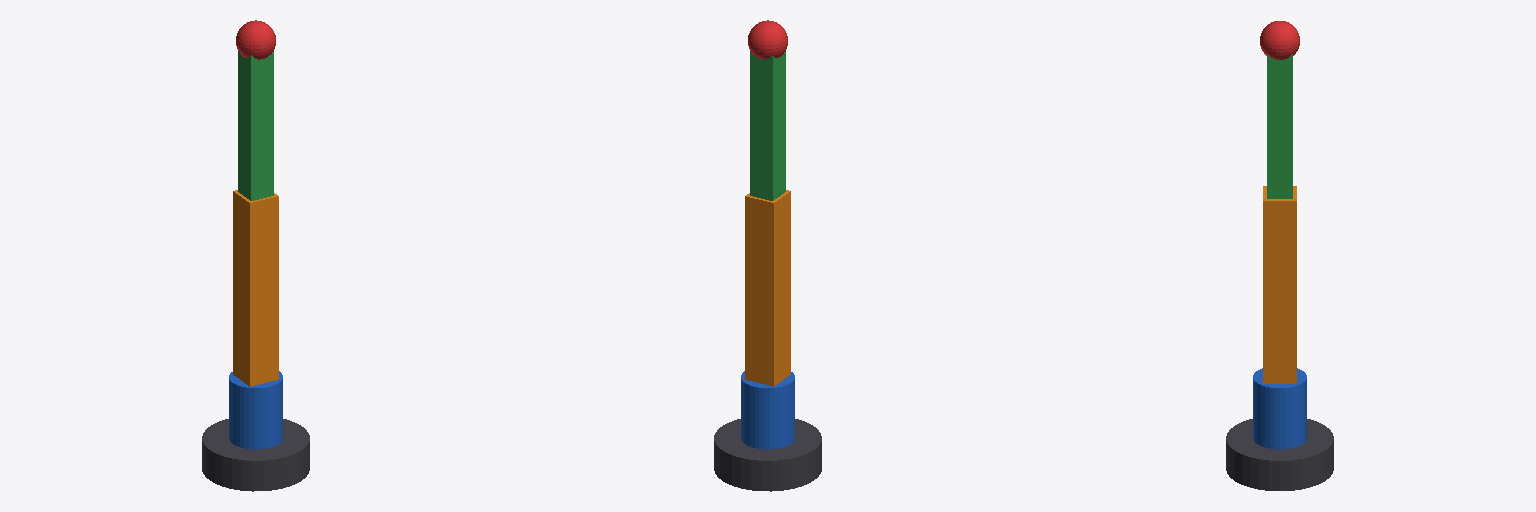
URDF robot description (two_link_arm):
<?xml version="1.0"?>
<robot name="two_link_arm">
  <link name="base_link">
    <visual>
      <origin xyz="0 0 0.025" rpy="0 0 0" />
      <geometry>
        <cylinder radius="0.08" length="0.05" />
      </geometry>
      <material name="base_link_material">
        <color rgba="0.3 0.3 0.33 1" />
      </material>
    </visual>
    <collision>
      <origin xyz="0 0 0.025" rpy="0 0 0" />
      <geometry>
        <cylinder radius="0.08" length="0.05" />
      </geometry>
    </collision>
    <inertial>
      <origin xyz="0 0 0.025" rpy="0 0 0" />
      <mass value="2" />
      <inertia ixx="0.00361666667" ixy="0" ixz="0" iyy="0.00361666667" iyz="0" izz="0.0064" />
    </inertial>
  </link>
  <link name="shoulder_link">
    <visual>
      <origin xyz="0 0 0.05" rpy="0 0 0" />
      <geometry>
        <cylinder radius="0.04" length="0.1" />
      </geometry>
      <material name="shoulder_link_material">
        <color rgba="0.2 0.45 0.8 1" />
      </material>
    </visual>
    <collision>
      <origin xyz="0 0 0.05" rpy="0 0 0" />
      <geometry>
        <cylinder radius="0.04" length="0.1" />
      </geometry>
    </collision>
    <inertial>
      <origin xyz="0 0 0.05" rpy="0 0 0" />
      <mass value="0.6" />
      <inertia ixx="0.00074" ixy="0" ixz="0" iyy="0.00074" iyz="0" izz="0.00048" />
    </inertial>
  </link>
  <link name="upper_arm_link">
    <visual>
      <origin xyz="0 0 0.15" rpy="0 0 0" />
      <geometry>
        <box size="0.05 0.05 0.3" />
      </geometry>
      <material name="upper_arm_link_material">
        <color rgba="0.9 0.55 0.15 1" />
      </material>
    </visual>
    <collision>
      <origin xyz="0 0 0.15" rpy="0 0 0" />
      <geometry>
        <box size="0.05 0.05 0.3" />
      </geometry>
    </collision>
    <inertial>
      <origin xyz="0 0 0.15" rpy="0 0 0" />
      <mass value="0.8" />
      <inertia ixx="0.00616666667" ixy="0" ixz="0" iyy="0.00616666667" iyz="0" izz="0.000333333333" />
    </inertial>
  </link>
  <link name="forearm_link">
    <visual>
      <origin xyz="0 0 0.125" rpy="0 0 0" />
      <geometry>
        <box size="0.04 0.04 0.25" />
      </geometry>
      <material name="forearm_link_material">
        <color rgba="0.25 0.65 0.35 1" />
      </material>
    </visual>
    <collision>
      <origin xyz="0 0 0.125" rpy="0 0 0" />
      <geometry>
        <box size="0.04 0.04 0.25" />
      </geometry>
    </collision>
    <inertial>
      <origin xyz="0 0 0.125" rpy="0 0 0" />
      <mass value="0.5" />
      <inertia ixx="0.00267083333" ixy="0" ixz="0" iyy="0.00267083333" iyz="0" izz="0.000133333333" />
    </inertial>
  </link>
  <link name="tool_link">
    <visual>
      <origin xyz="0 0 0" rpy="0 0 0" />
      <geometry>
        <sphere radius="0.03" />
      </geometry>
      <material name="tool_link_material">
        <color rgba="0.85 0.25 0.25 1" />
      </material>
    </visual>
    <collision>
      <origin xyz="0 0 0" rpy="0 0 0" />
      <geometry>
        <sphere radius="0.03" />
      </geometry>
    </collision>
    <inertial>
      <origin xyz="0 0 0" rpy="0 0 0" />
      <mass value="0.1" />
      <inertia ixx="3.6e-05" ixy="0" ixz="0" iyy="3.6e-05" iyz="0" izz="3.6e-05" />
    </inertial>
  </link>
  <joint name="shoulder_pan_joint" type="revolute">
    <parent link="base_link" />
    <child link="shoulder_link" />
    <origin xyz="0 0 0.05" rpy="0 0 0" />
    <axis xyz="0 0 1" />
    <limit effort="20" velocity="2" lower="-3.14159" upper="3.14159" />
  </joint>
  <joint name="shoulder_lift_joint" type="revolute">
    <parent link="shoulder_link" />
    <child link="upper_arm_link" />
    <origin xyz="0 0 0.1" rpy="0 0 0" />
    <axis xyz="0 1 0" />
    <limit effort="20" velocity="2" lower="-1.57" upper="1.57" />
  </joint>
  <joint name="elbow_joint" type="revolute">
    <parent link="upper_arm_link" />
    <child link="forearm_link" />
    <origin xyz="0 0 0.3" rpy="0 0 0" />
    <axis xyz="0 1 0" />
    <limit effort="10" velocity="2.5" lower="-2.5" upper="2.5" />
  </joint>
  <joint name="forearm_to_tool_joint" type="fixed">
    <parent link="forearm_link" />
    <child link="tool_link" />
    <origin xyz="0 0 0.25" rpy="0 0 0" />
  </joint>
</robot>

--- Facts derived from the render (not from the file) ---
3 views of the same robot in one strip: view 1: azimuth 30°, elevation 25°; view 2: azimuth 150°, elevation 25°; view 3: azimuth 270°, elevation 25° (orthographic).
Robot: two_link_arm — 5 links, 4 joints (3 revolute, 1 fixed); root link base_link; default pose: all joints at 0.
Links seen in each view (by area): view 1: upper_arm_link, base_link, forearm_link, shoulder_link, tool_link; view 2: upper_arm_link, base_link, forearm_link, shoulder_link, tool_link; view 3: upper_arm_link, base_link, shoulder_link, forearm_link, tool_link.
Link boxes in pixels (x1,y1,x2,y2): upper_arm_link: (233, 190, 278, 386); base_link: (202, 419, 309, 491); forearm_link: (238, 51, 273, 200); shoulder_link: (229, 371, 282, 449); tool_link: (236, 20, 275, 59); upper_arm_link: (745, 190, 790, 386); base_link: (714, 419, 821, 491); forearm_link: (750, 51, 785, 200); shoulder_link: (741, 371, 794, 449); tool_link: (748, 20, 787, 59); upper_arm_link: (1263, 186, 1296, 383); base_link: (1226, 419, 1333, 490); shoulder_link: (1253, 368, 1306, 449); forearm_link: (1267, 54, 1292, 198); tool_link: (1260, 21, 1299, 59).
Size in the robot's own frame: 0.16 by 0.16 by 0.73 metres.
Geometry: primitives only (box / cylinder / sphere), no mesh files.
